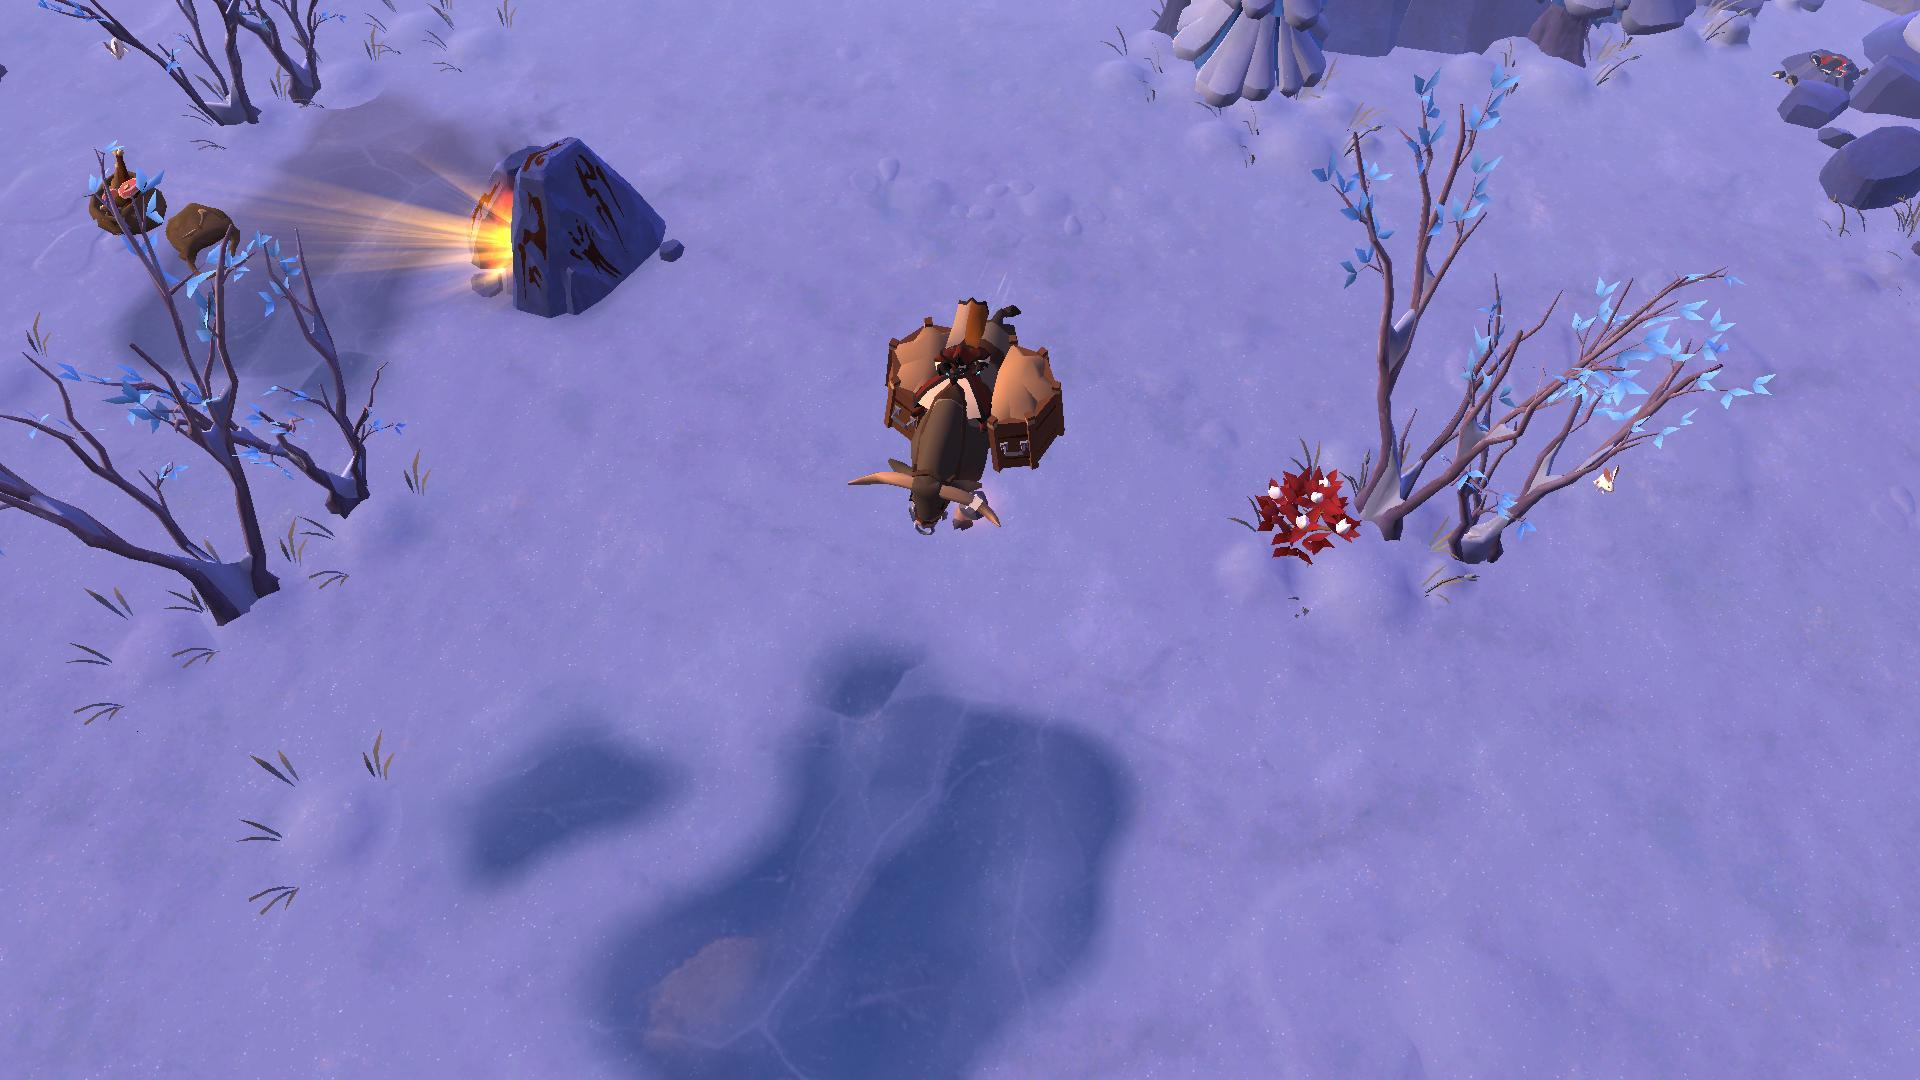fiber_t5: (1251, 459, 1362, 563)
